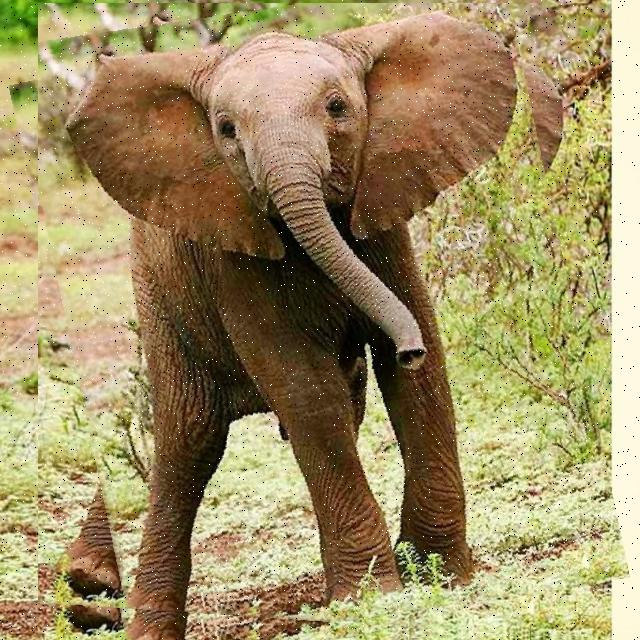elephant: (38, 3, 601, 640)
